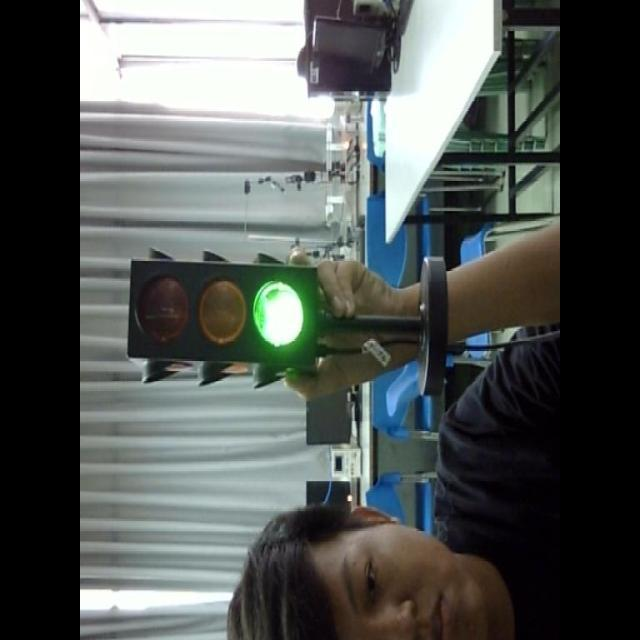green light: (246, 262, 314, 358)
